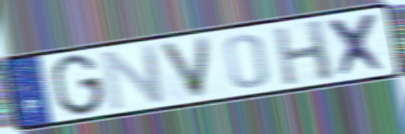0: (223, 32, 271, 90)
G: (50, 52, 107, 118)
H: (270, 17, 337, 87)
N: (99, 41, 168, 113)
V: (156, 34, 214, 101)
X: (325, 10, 392, 80)
